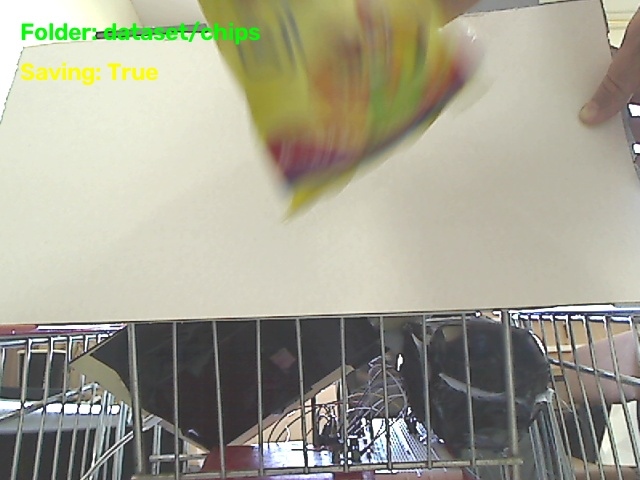chips: (199, 0, 474, 213)
